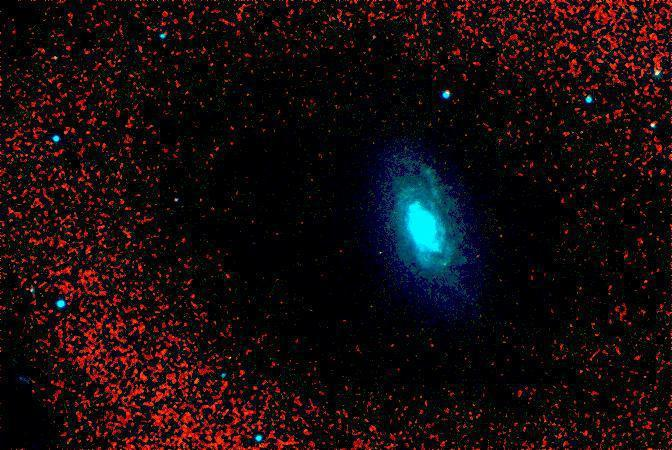star: (431, 247, 461, 277)
